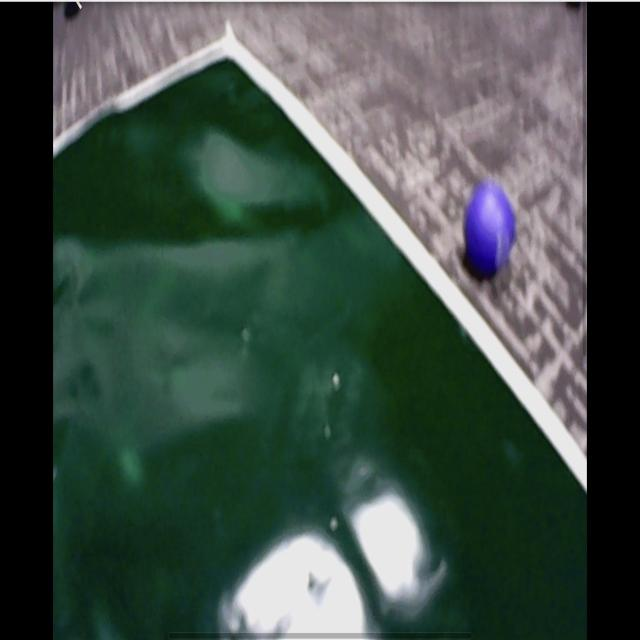ball: (464, 190, 516, 274)
